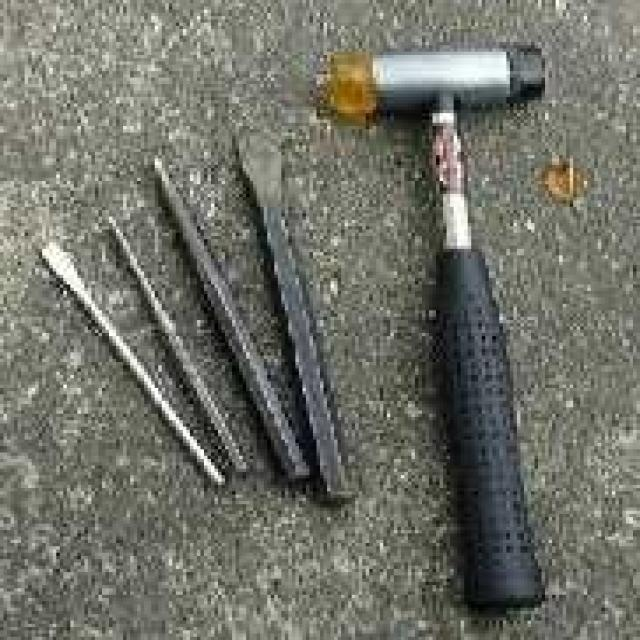hammer: (296, 50, 623, 614)
